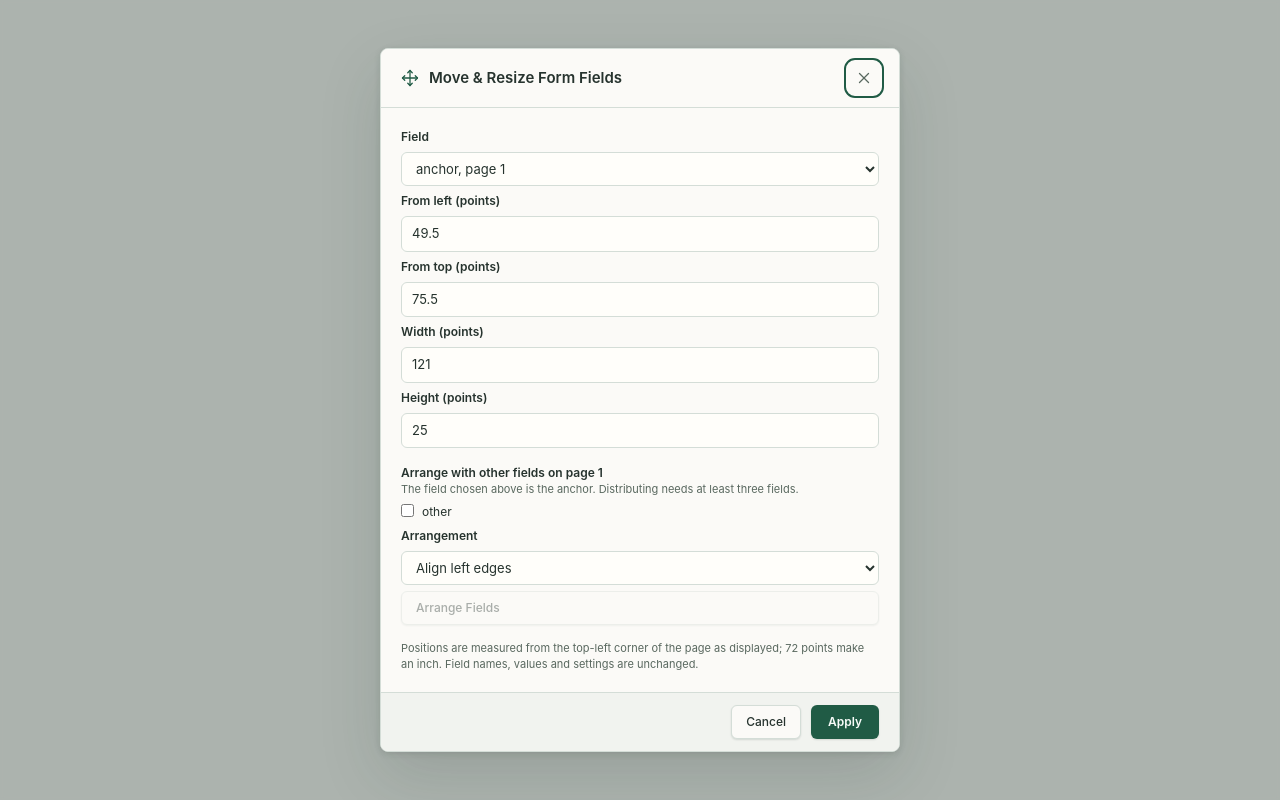
it: arranges a chosen field with the anchor field
Expected: the button "Arrange Fields" is disabled, [401,591,879,625]
Click the checkbox labelled "other": point(408, 511) [401,504,414,517]
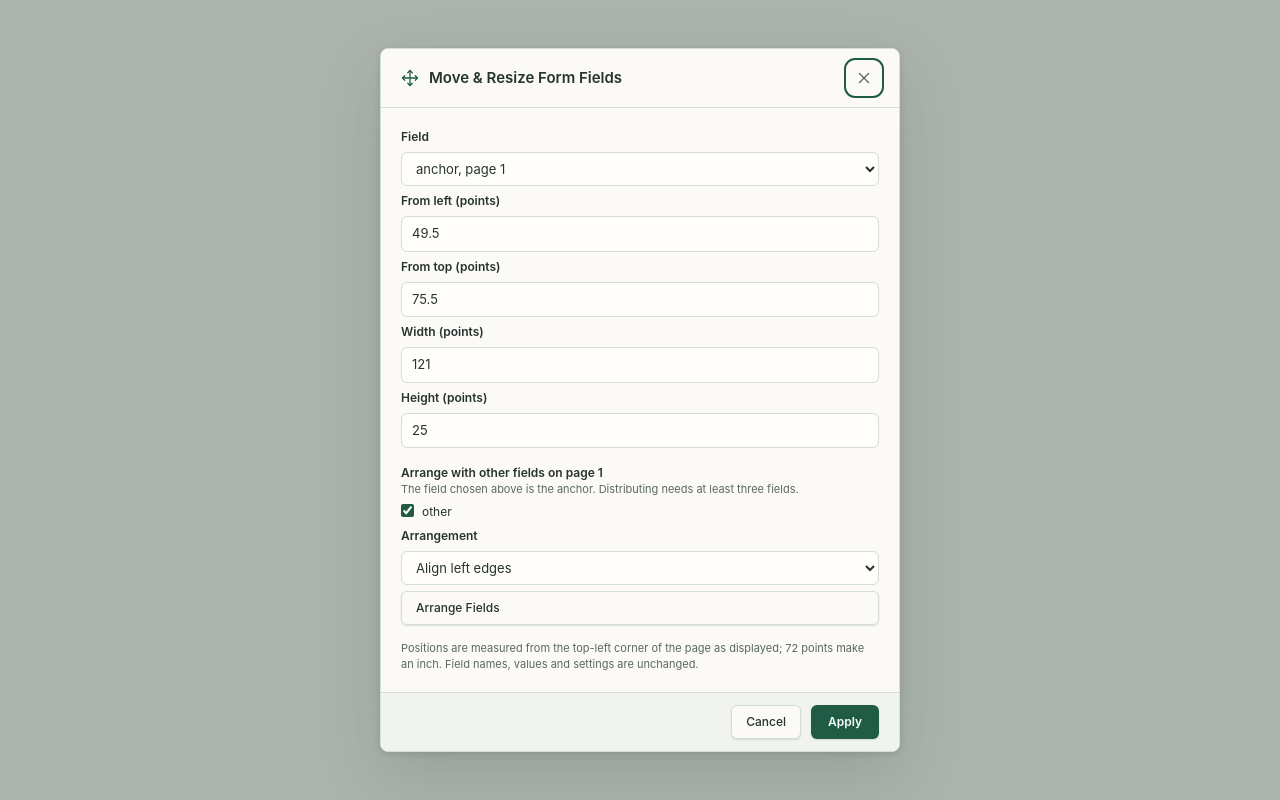
Click the button "Arrange Fields": point(458, 608) [401,591,879,625]
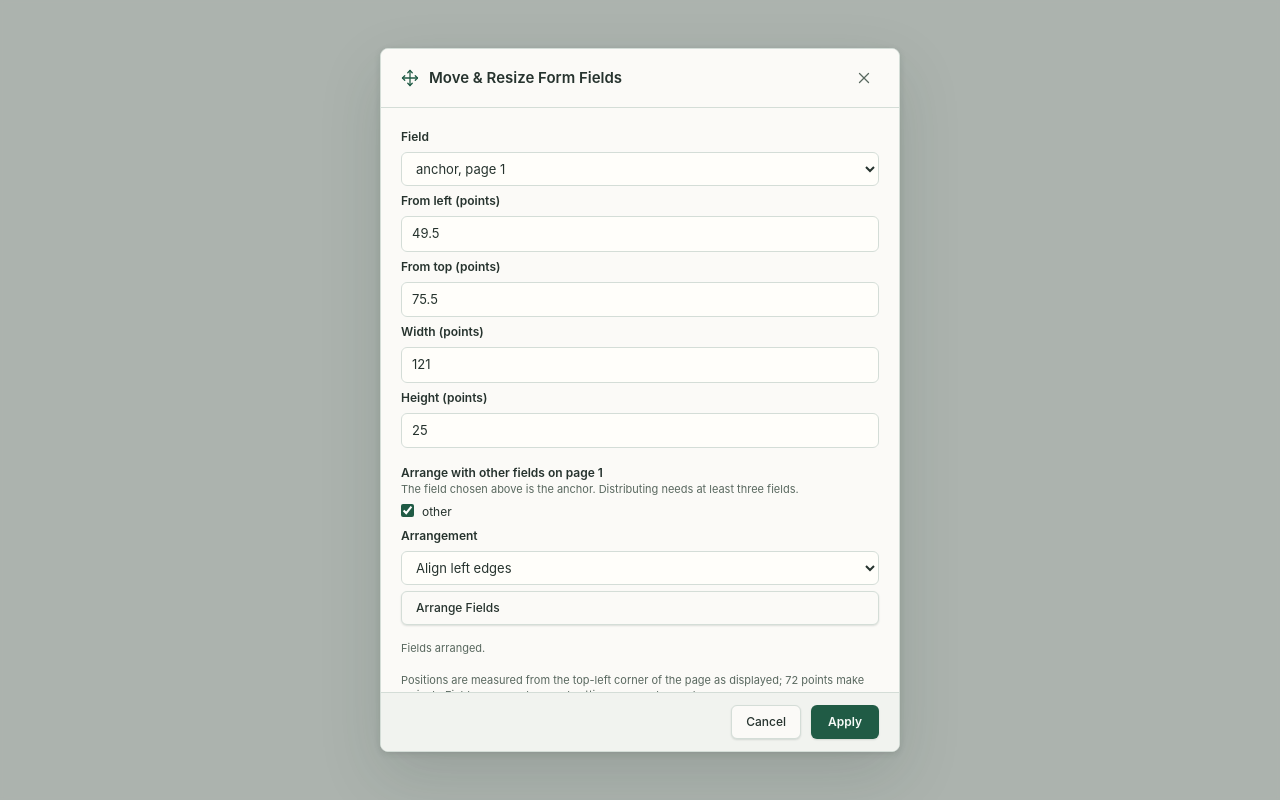
Now the text "Fields arranged." is shown, box [401,641,485,655]
